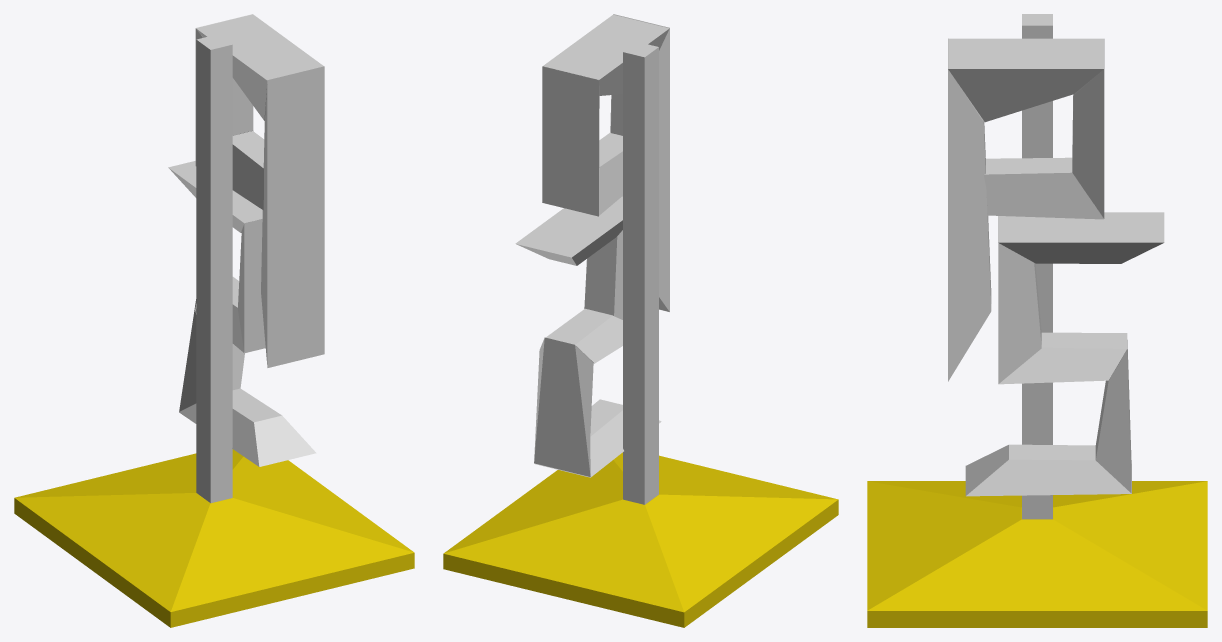
File: Статуя на стіл.fbx
The picture shows the model from 3 angles, left to right: view 1: azimuth 30°, elevation 25°; view 2: azimuth 150°, elevation 25°; view 3: azimuth 270°, elevation 25°; orthographic projection. The views are drawn at different scales.
Parts seen in each view (by area): view 1: Куб, S.001, Куб.001, S.002, Куб.005, S, Куб.007, Куб.004, Куб.003, Куб.006, Куб.002; view 2: Куб, Куб.001, Куб.006, Куб.004, S.002, Куб.003, S.001, S, Куб.002, Куб.005, Куб.007; view 3: Куб, S.001, S.002, Куб.003, Куб.005, Куб.001, Куб.007, S, Куб.002, Куб.006, Куб.004.
Boxes of the visible parts, x1=… form: Куб: x1=14, y1=449, x2=414, y2=627; S.001: x1=261, y1=66, x2=324, y2=367; Куб.001: x1=196, y1=34, x2=232, y2=503; S.002: x1=196, y1=14, x2=323, y2=120; Куб.005: x1=179, y1=388, x2=316, y2=466; S: x1=238, y1=219, x2=265, y2=353; Куб.007: x1=232, y1=131, x2=264, y2=210; Куб.004: x1=179, y1=299, x2=244, y2=411; Куб.003: x1=168, y1=161, x2=262, y2=232; Куб.006: x1=195, y1=14, x2=253, y2=165; Куб.002: x1=196, y1=277, x2=244, y2=352; Куб: x1=443, y1=452, x2=838, y2=627; Куб.001: x1=623, y1=42, x2=658, y2=504; Куб.006: x1=542, y1=66, x2=599, y2=216; Куб.004: x1=534, y1=337, x2=593, y2=476; S.002: x1=542, y1=14, x2=669, y2=95; Куб.003: x1=515, y1=196, x2=622, y2=265; S.001: x1=610, y1=14, x2=669, y2=311; S: x1=584, y1=230, x2=622, y2=319; Куб.002: x1=546, y1=308, x2=622, y2=363; Куб.005: x1=534, y1=399, x2=661, y2=477; Куб.007: x1=599, y1=132, x2=622, y2=215; Куб: x1=867, y1=481, x2=1207, y2=627; S.001: x1=948, y1=38, x2=991, y2=381; S.002: x1=948, y1=38, x2=1103, y2=122; Куб.003: x1=998, y1=212, x2=1164, y2=263; Куб.005: x1=965, y1=444, x2=1131, y2=496; Куб.001: x1=1022, y1=14, x2=1052, y2=519; Куб.007: x1=984, y1=157, x2=1103, y2=219; S: x1=998, y1=243, x2=1041, y2=383; Куб.002: x1=999, y1=332, x2=1127, y2=384; Куб.006: x1=1072, y1=39, x2=1104, y2=218; Куб.004: x1=1095, y1=340, x2=1131, y2=493.
Size of the model in its own units: 314 by 613 by 348.
